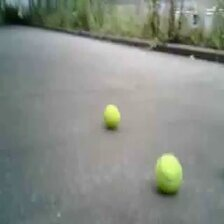tennis: (153, 153, 184, 190), (102, 104, 120, 127)
